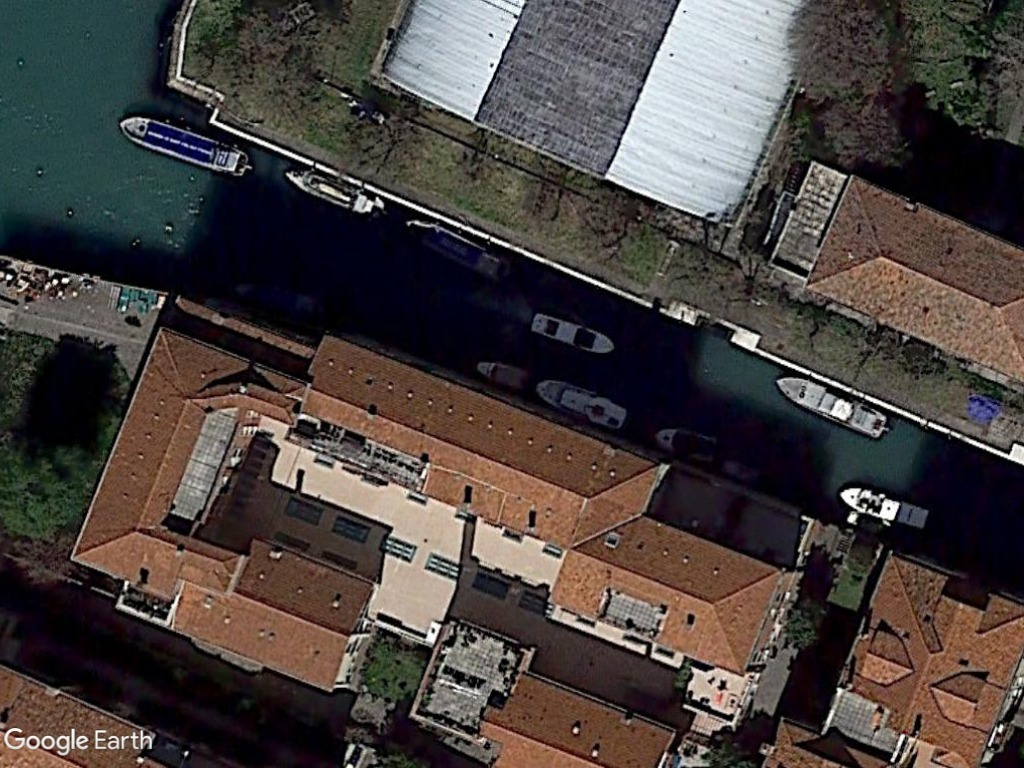boat: (115, 112, 255, 184), (771, 372, 889, 442), (280, 164, 386, 224), (530, 374, 632, 432), (832, 481, 933, 536), (524, 306, 619, 362), (651, 422, 720, 468), (472, 353, 533, 393)
